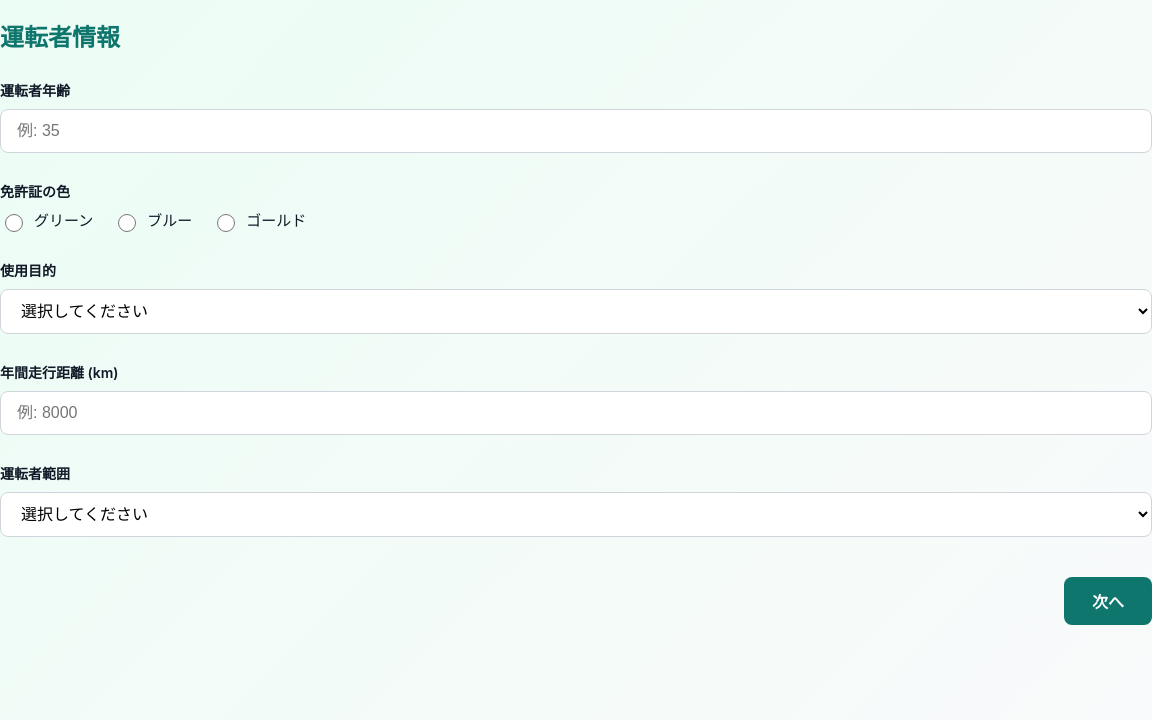
it: Step1 Driver Info › ST-002: should show validation errors when submitting empty form
Step 1. Click the button "次へ" → coordinates (1108, 601), box left=1064, top=577, right=1151, bottom=625
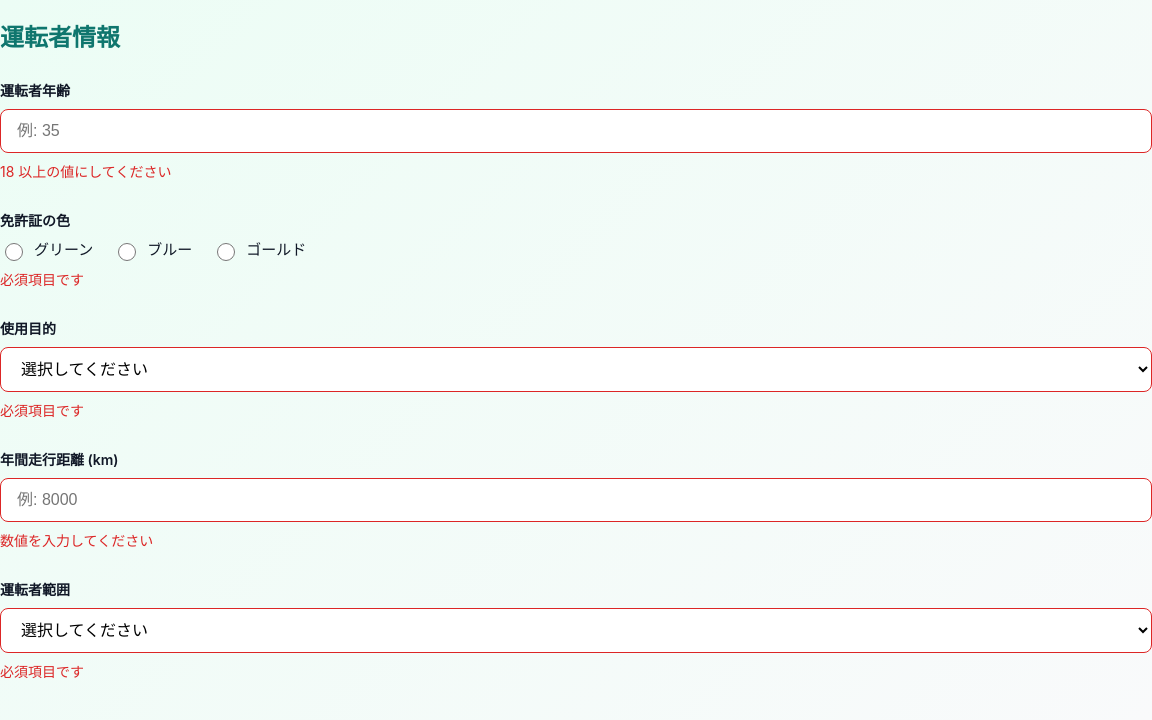
Check: the text "18 以上の値にしてください" is shown, box left=0, top=163, right=172, bottom=180
Check: the text "必須項目です" below "グリーン" is shown, box left=0, top=271, right=84, bottom=288
Check: the text "数値を入力してください" is shown, box left=0, top=532, right=153, bottom=549
